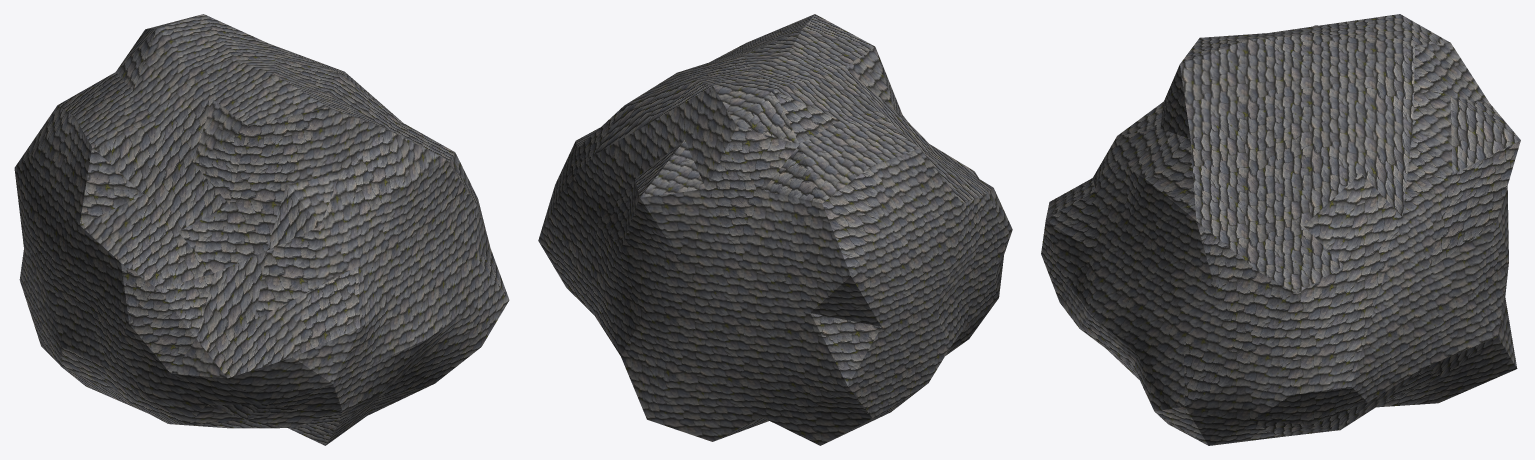
The model's file is grock_q.glb.
3 renders of one model, left to right at view 1: azimuth 30°, elevation 25°; view 2: azimuth 150°, elevation 25°; view 3: azimuth 270°, elevation 25°, orthographic. The views are drawn at different scales.
Parts seen in each view (by area): view 1: model; view 2: model; view 3: model.
Part boxes in pixels (box(x1,y1,x2,y2)): model: box(14, 14, 509, 445); model: box(538, 14, 1012, 445); model: box(1041, 14, 1520, 445).
Bounding box in the file's own units: 4.64 × 3.72 × 4.49.
Materials: 1 (1 with a texture image).
